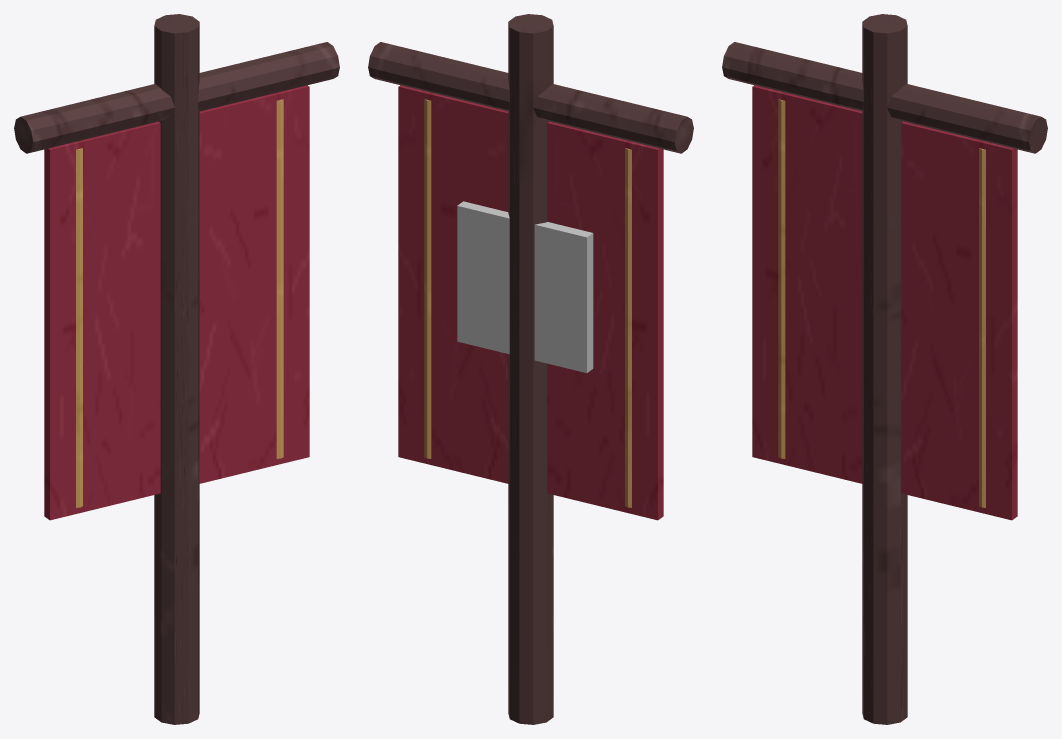
File: dojo_ritual_banner.obj
3 renders of one model, left to right at view 1: azimuth 30°, elevation 25°; view 2: azimuth 150°, elevation 25°; view 3: azimuth 330°, elevation 25°, orthographic.
Parts seen in each view (by area): view 1: geometry_2, geometry_1, geometry_0, geometry_4, geometry_3; view 2: geometry_2, geometry_1, geometry_5, geometry_0, geometry_4, geometry_3; view 3: geometry_2, geometry_1, geometry_0, geometry_3, geometry_4.
Boxes of the visible parts, x1,y1,x2,y2 form: geometry_2: (44, 85, 309, 520); geometry_1: (154, 14, 199, 724); geometry_0: (14, 42, 339, 153); geometry_4: (276, 99, 283, 458); geometry_3: (76, 148, 82, 507); geometry_2: (398, 85, 663, 520); geometry_1: (508, 14, 553, 724); geometry_5: (457, 201, 593, 372); geometry_0: (368, 42, 693, 153); geometry_4: (424, 99, 431, 458); geometry_3: (625, 148, 631, 507); geometry_2: (752, 85, 1017, 520); geometry_1: (862, 14, 907, 724); geometry_0: (722, 42, 1047, 153); geometry_3: (778, 99, 785, 458); geometry_4: (979, 148, 985, 507).
Bounding box in the file's own units: 2.6 × 5.6 × 0.34.
